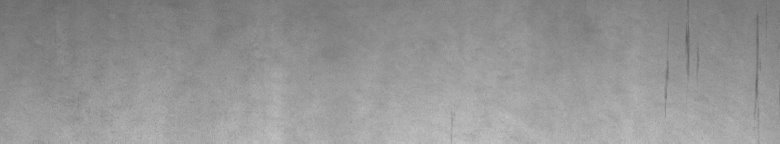ka: (661, 15, 764, 100)
